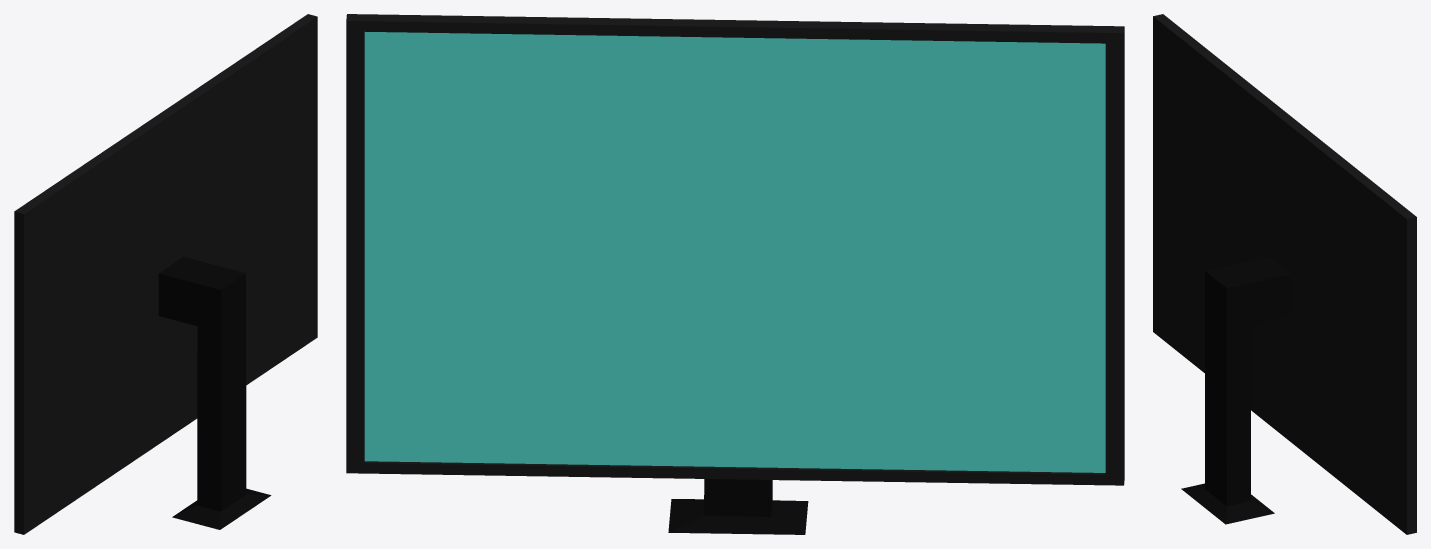
The model's file is MONITORS.fbx.
3 renders of one model, left to right at view 1: azimuth 30°, elevation 25°; view 2: azimuth 150°, elevation 25°; view 3: azimuth 270°, elevation 25°, orthographic. The views are drawn at different scales.
Parts seen in each view (by area): view 1: Cube.001, Cube.002; view 2: Cube.001, Cube.002; view 3: Cube.001, Cube.002.
Boxes of the visible parts, x1,y1,x2,y2 form: Cube.001: (14,14,317,534); Cube.002: (158,256,271,529); Cube.001: (346,14,1124,485); Cube.002: (668,479,808,534); Cube.001: (1153,14,1416,534); Cube.002: (1181,257,1290,524).
Size of the model in its own units: 74.03 by 62.52 by 40.23.
